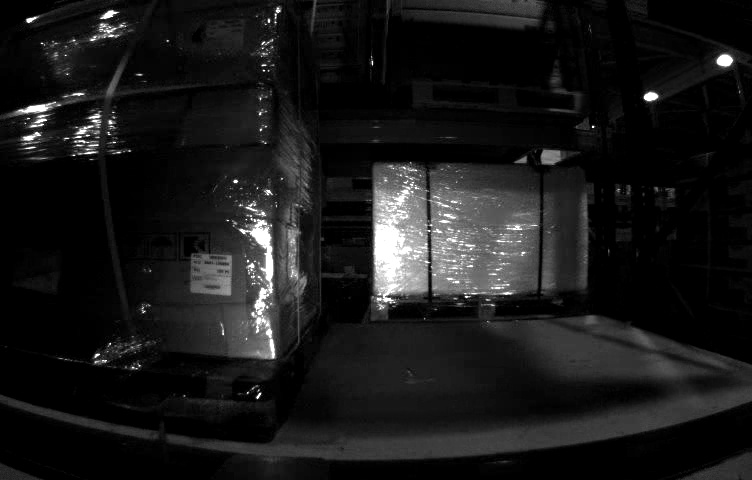True Barcode: (190, 252, 232, 295)
